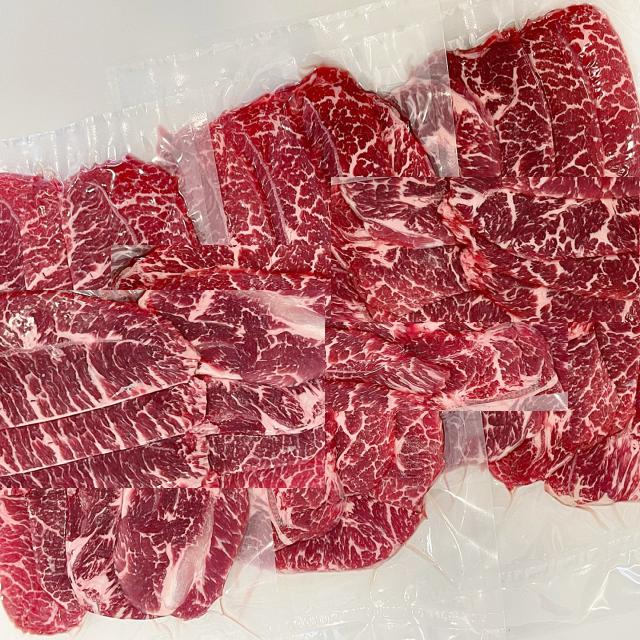beef: (183, 172, 495, 484), (0, 233, 268, 546), (405, 104, 640, 397)
